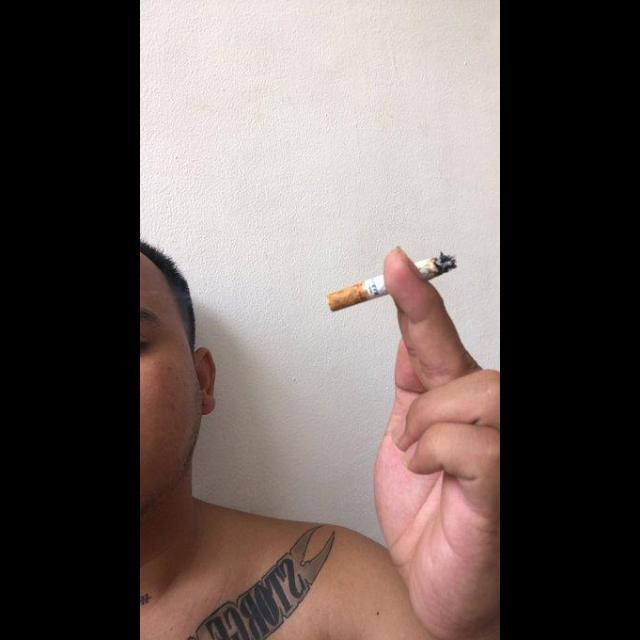rokok: (327, 248, 458, 310)
